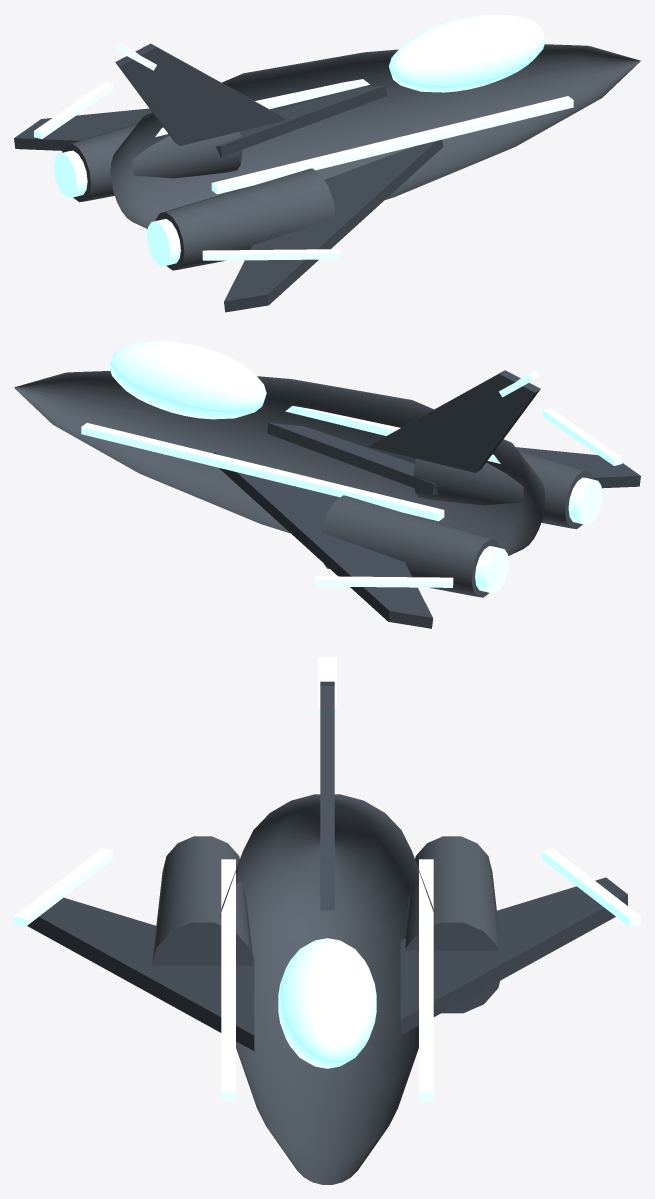
File: gen-ship.glb
3 views of the same model, one above another, from view 1: azimuth 30°, elevation 25°; view 2: azimuth 150°, elevation 25°; view 3: azimuth 270°, elevation 25° (orthographic). The views are drawn at different scales.
Visible parts, largest first — view 1: glint-ship; view 2: glint-ship; view 3: glint-ship.
Boxes of the visible parts, bbox=[...] form: glint-ship: bbox=[14, 14, 640, 312]; glint-ship: bbox=[14, 341, 640, 628]; glint-ship: bbox=[14, 657, 640, 1184].
Bounding box in the file's own units: 2.22 × 0.8653 × 1.71.
